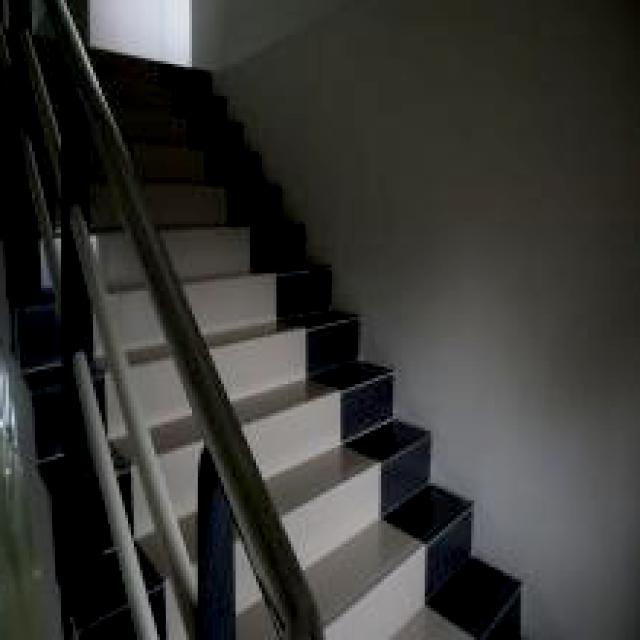upstair: (202, 115, 359, 473)
